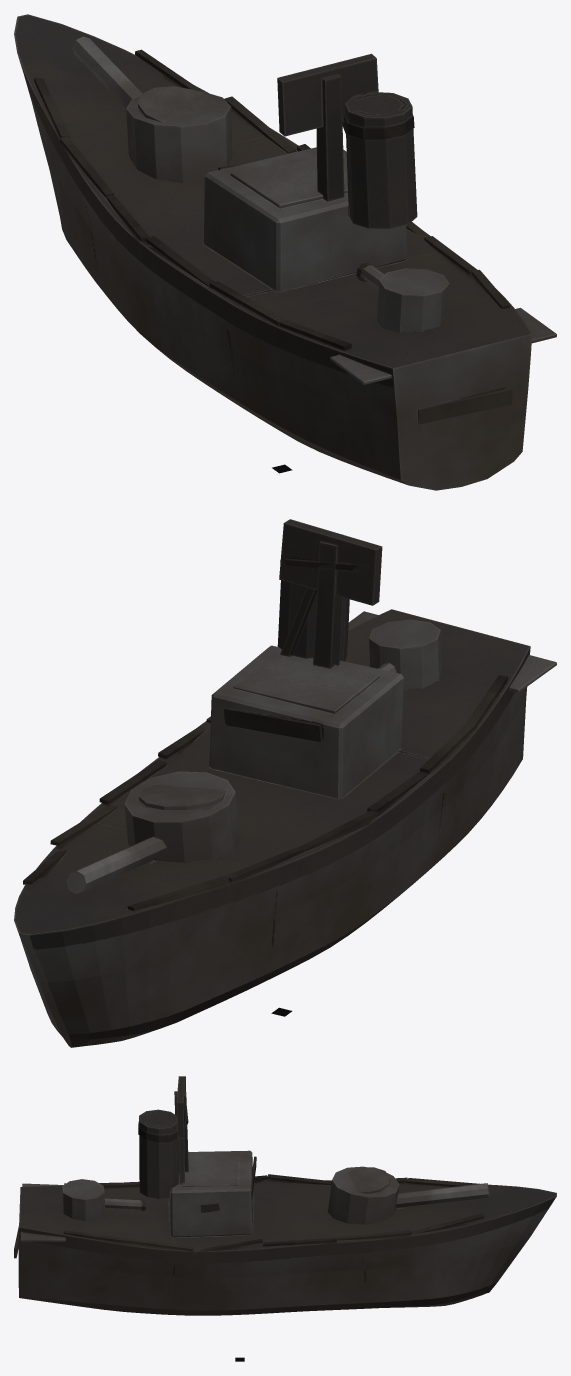
The model's file is chs_barracuda_wreck.fbx.
The picture shows the model from 3 angles, top to bottom: view 1: azimuth 30°, elevation 25°; view 2: azimuth 150°, elevation 25°; view 3: azimuth 270°, elevation 25°; orthographic projection. The views are drawn at different scales.
Visible parts, largest first — view 1: base_bar, turret1_bar, turret2_bar; view 2: base_bar, turret1_bar, turret2_bar; view 3: base_bar, turret1_bar, turret2_bar.
Boxes of the visible parts, <box> form: base_bar: <box>14,14,556,490</box>; turret1_bar: <box>72,36,232,182</box>; turret2_bar: <box>356,263,449,332</box>; base_bar: <box>14,519,556,1047</box>; turret1_bar: <box>66,771,240,894</box>; turret2_bar: <box>369,619,441,690</box>; base_bar: <box>14,1076,556,1315</box>; turret1_bar: <box>328,1166,489,1224</box>; turret2_bar: <box>62,1179,145,1221</box>.
Bounding box in the file's own units: 346 × 623 × 1135.
2 materials, 2 textured.
